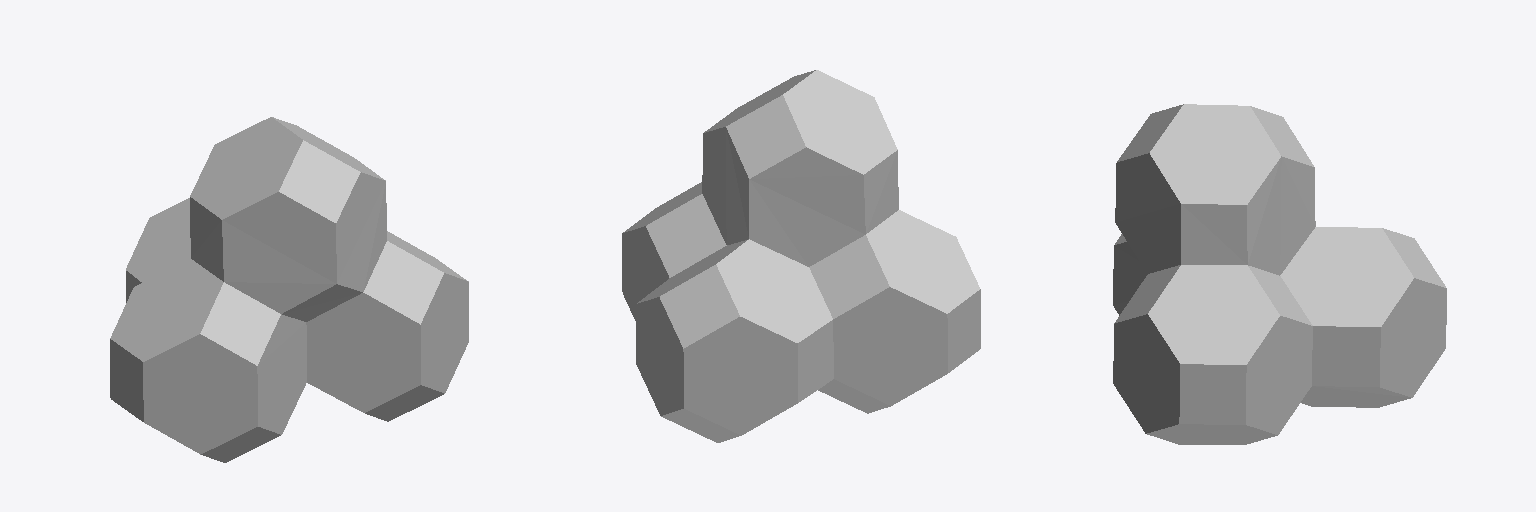
Rendered from fcc4.obj.
The picture shows the model from 3 angles: view 1: azimuth 30°, elevation 25°; view 2: azimuth 150°, elevation 25°; view 3: azimuth 270°, elevation 25°; orthographic projection.
Parts seen in each view (by area): view 1: Obj4_Mesh4, Obj1_Mesh1, Obj3_Mesh3, Obj2_Mesh2; view 2: Obj2_Mesh2, Obj4_Mesh4, Obj1_Mesh1, Obj3_Mesh3; view 3: Obj3_Mesh3, Obj4_Mesh4, Obj2_Mesh2, Obj1_Mesh1.
Part boxes in pixels (x1,y1,x2,y2): Obj4_Mesh4: (190, 117, 386, 321); Obj1_Mesh1: (110, 259, 306, 462); Obj3_Mesh3: (306, 231, 468, 421); Obj2_Mesh2: (126, 198, 190, 302); Obj2_Mesh2: (636, 239, 833, 442); Obj4_Mesh4: (702, 70, 898, 266); Obj1_Mesh1: (809, 210, 980, 413); Obj3_Mesh3: (622, 182, 726, 320); Obj3_Mesh3: (1113, 265, 1312, 444); Obj4_Mesh4: (1115, 104, 1315, 275); Obj2_Mesh2: (1280, 227, 1446, 407); Obj1_Mesh1: (1113, 234, 1147, 315).
Bounding box in the file's own units: 2.43 × 2.16 × 2.16.